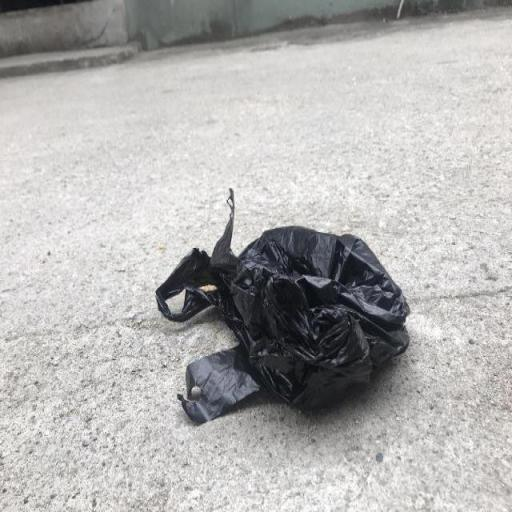plastic-bag: (153, 188, 412, 426)
